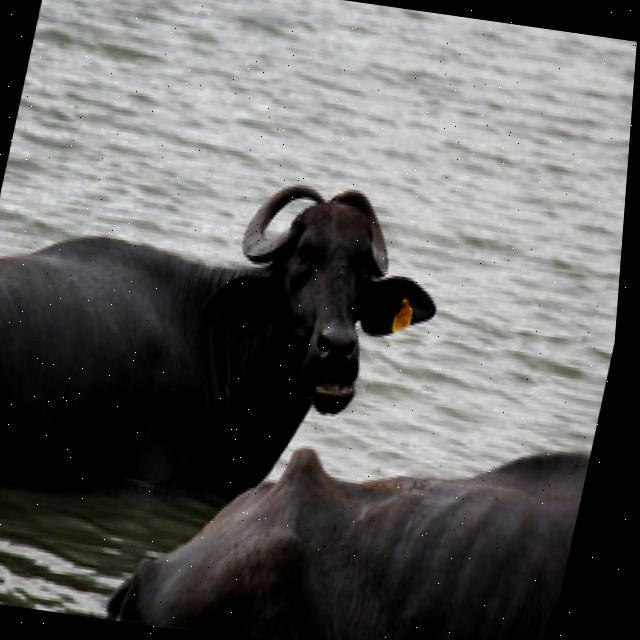Buffalo: (0, 135, 465, 540)
